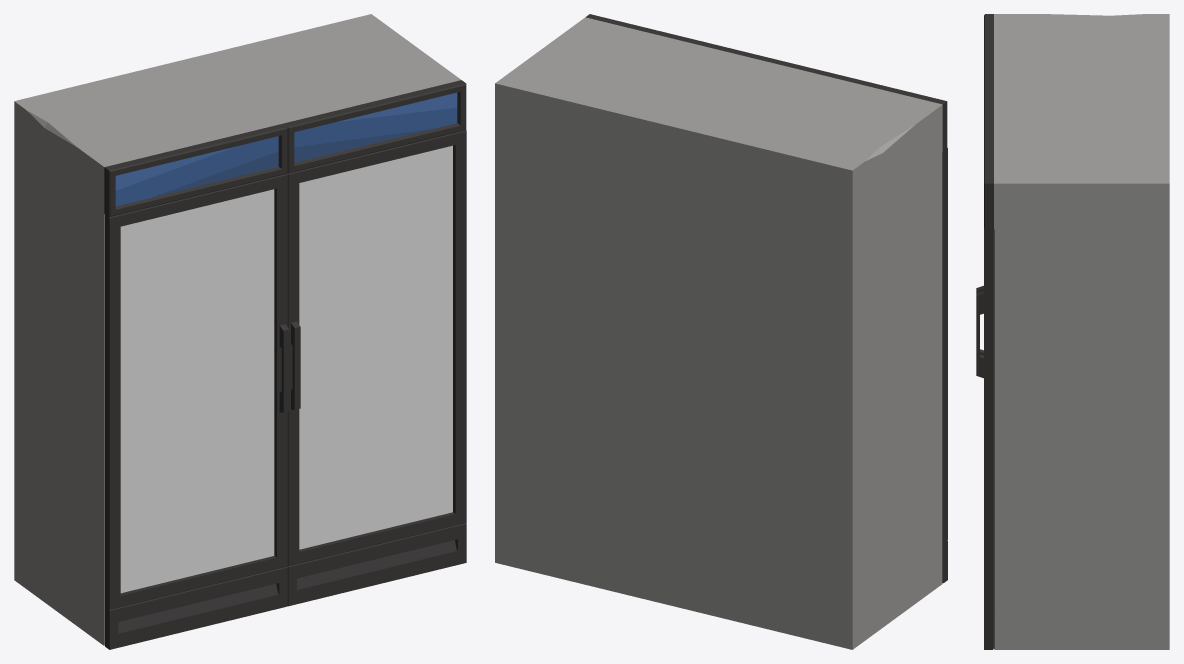
The model's file is SM_Props_Interior_SuperMarket_Fridge_Large_Preset_Bar.fbx.
The picture shows the model from 3 angles, left to right: view 1: azimuth 30°, elevation 25°; view 2: azimuth 150°, elevation 25°; view 3: azimuth 270°, elevation 25°; orthographic projection. The views are drawn at different scales.
Visible parts, largest first — view 1: SM_Props_Interior_SuperMarket_Fridge_Large_Preset_Bar; view 2: SM_Props_Interior_SuperMarket_Fridge_Large_Preset_Bar; view 3: SM_Props_Interior_SuperMarket_Fridge_Large_Preset_Bar.
Part boxes in pixels (x1=…): SM_Props_Interior_SuperMarket_Fridge_Large_Preset_Bar: x1=14, y1=14, x2=466, y2=649; SM_Props_Interior_SuperMarket_Fridge_Large_Preset_Bar: x1=495, y1=14, x2=947, y2=649; SM_Props_Interior_SuperMarket_Fridge_Large_Preset_Bar: x1=976, y1=14, x2=1169, y2=649.
Bounding box in the file's own units: 160 × 205 × 77.
